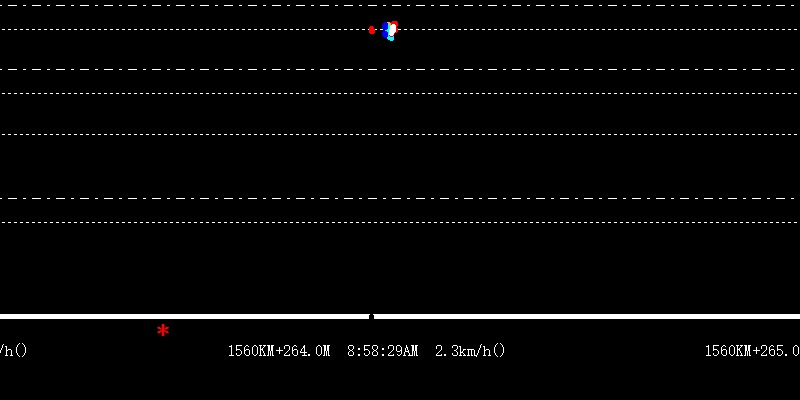face_1: (367, 23, 377, 39)
face_2: (382, 16, 397, 42)
star: (155, 321, 172, 339)
